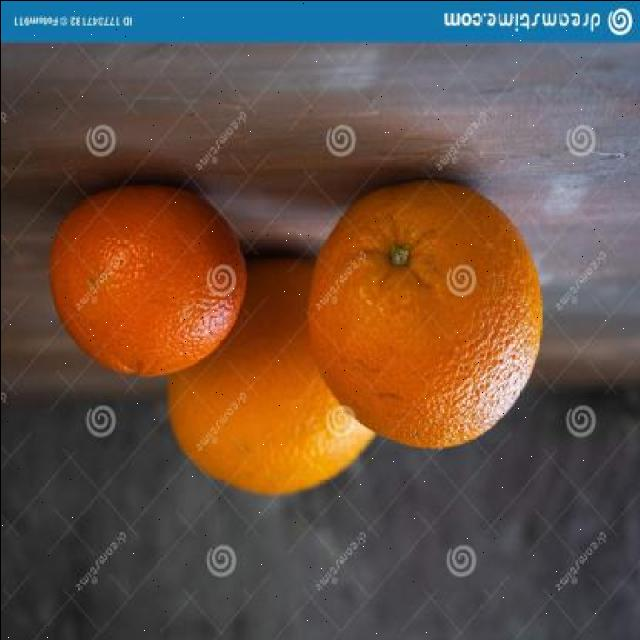Orange: (304, 178, 544, 450), (166, 255, 377, 497), (48, 183, 248, 379)
